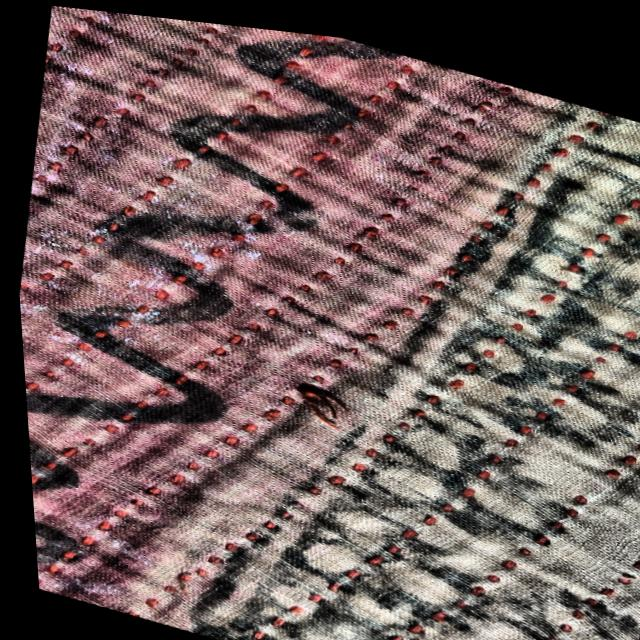Stitch: (246, 326, 360, 440)
